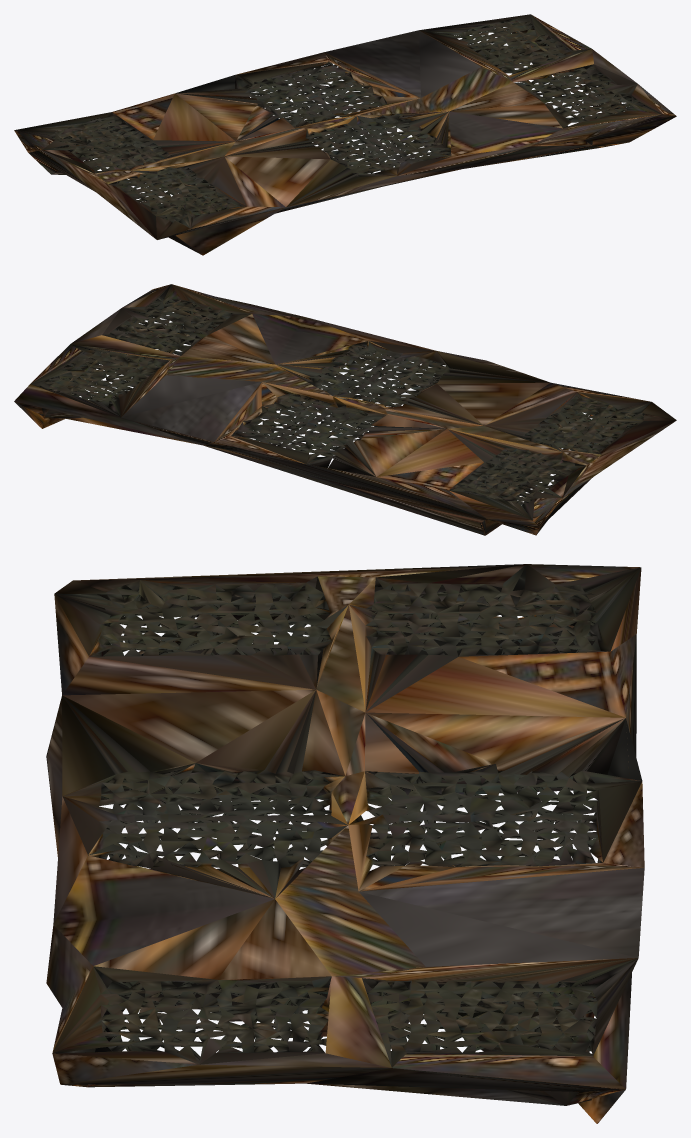
Rendered from platform.glb.
3 views of the same model, one above another, from view 1: azimuth 30°, elevation 25°; view 2: azimuth 150°, elevation 25°; view 3: azimuth 270°, elevation 25° (orthographic). The views are drawn at different scales.
Visible parts, largest first — view 1: platform; view 2: platform; view 3: platform.
Boxes of the visible parts, <box> form: platform: <box>14,14,676,255</box>; platform: <box>14,284,676,535</box>; platform: <box>46,564,644,1123</box>.
Bounding box in the file's own units: 5.94 × 0.45 × 2.97.
1 material, 1 textured.
